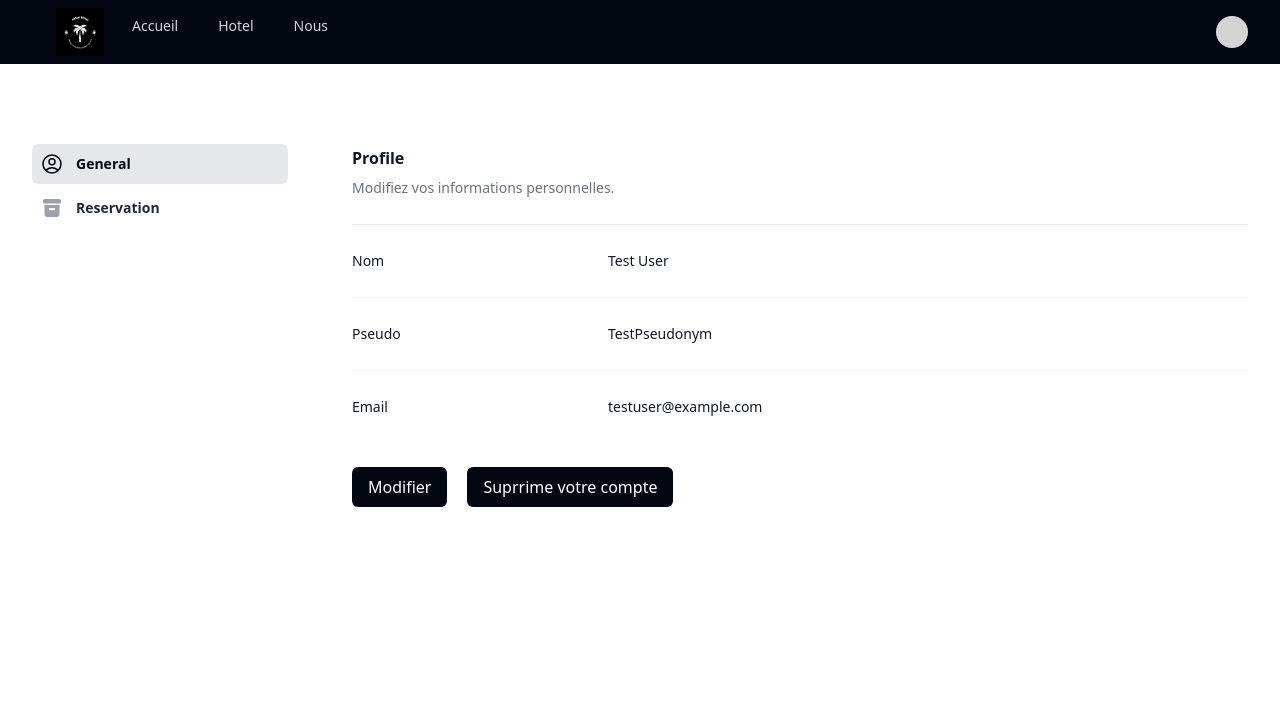
Test case: Navigation dans le profil › Navigue entre les sections "General" et "Reservation"
The width and height of the screenshot is (1280, 720).
Click the link "Reservation".
click(100, 208)  # box 40,196 -> 160,220
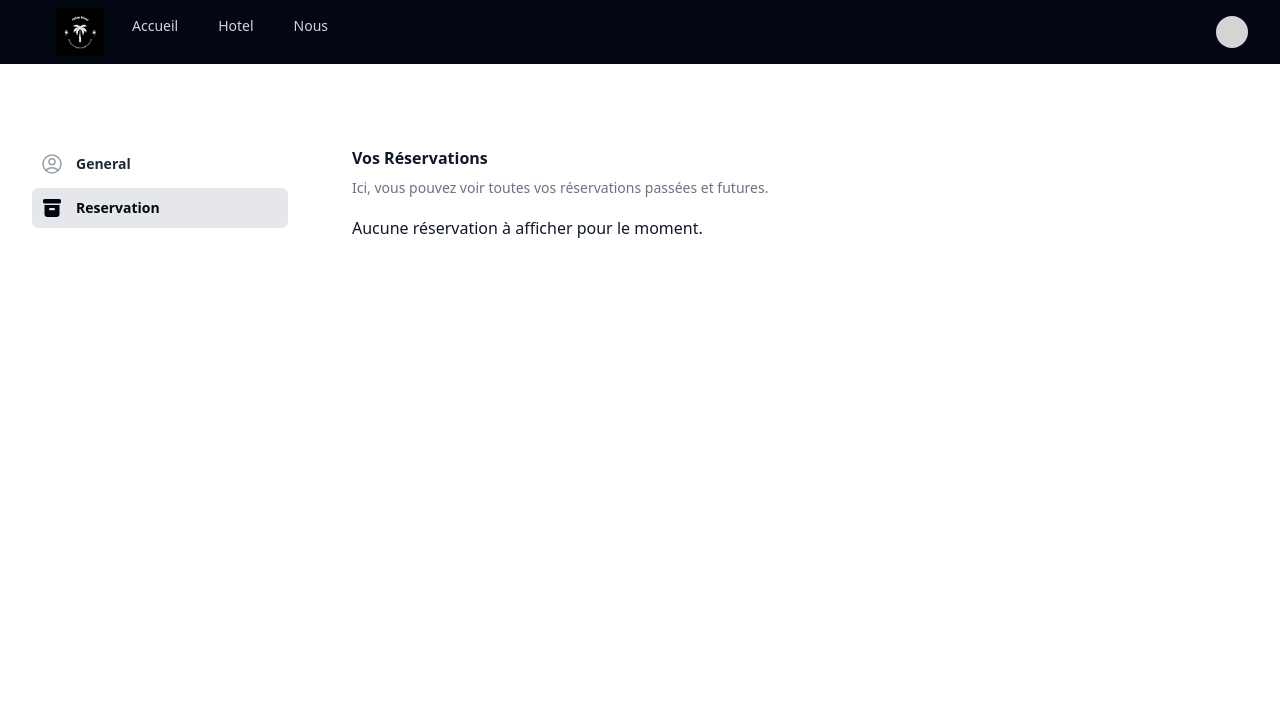
Now the heading "Vos Réservations" is shown, box 352,147 -> 488,169
